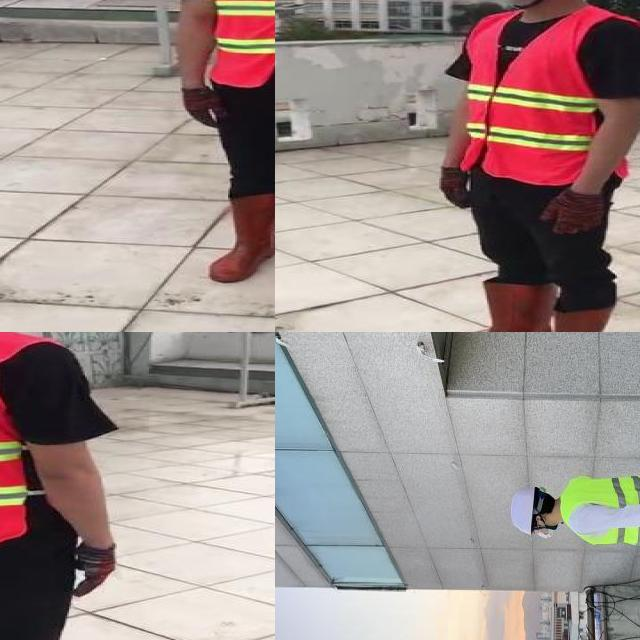boots: (208, 194, 275, 282), (439, 284, 554, 332), (515, 308, 607, 332)
hand_glove: (535, 193, 610, 233), (71, 544, 117, 598), (182, 86, 228, 127), (439, 165, 473, 212)
head_helmet: (510, 482, 539, 541)
person: (413, 0, 640, 332), (0, 332, 158, 640), (163, 0, 275, 292), (452, 434, 640, 579)
vest: (460, 8, 633, 185), (556, 473, 640, 551), (204, 0, 275, 92)
